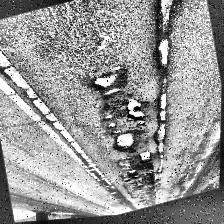pothole: (154, 1, 180, 38), (151, 122, 173, 163), (154, 38, 174, 74), (124, 97, 146, 127), (111, 133, 137, 157), (155, 93, 173, 125), (92, 74, 120, 94), (139, 152, 153, 166), (108, 122, 118, 132)
